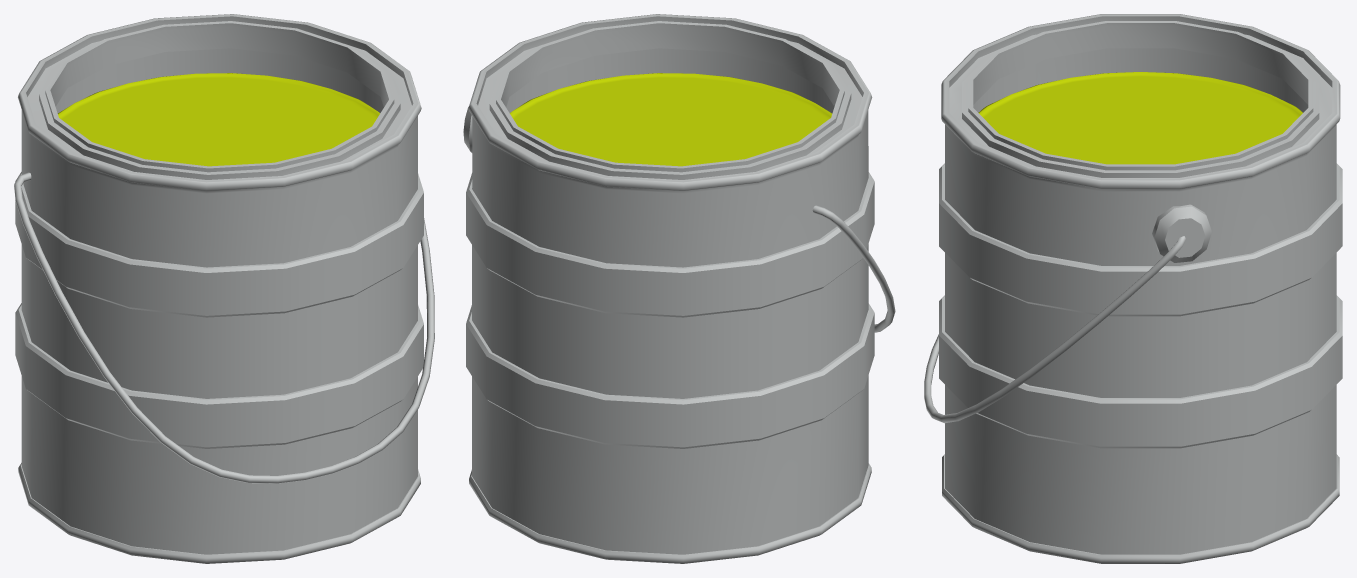
The model's file is paint_bucket4.fbx.
3 renders of one model, left to right at view 1: azimuth 30°, elevation 25°; view 2: azimuth 150°, elevation 25°; view 3: azimuth 270°, elevation 25°, orthographic.
Parts seen in each view (by area): view 1: Paint; view 2: Paint; view 3: Paint.
Boxes of the visible parts, left/top/right/bottom form: Paint: left=14, top=14, right=434, bottom=563; Paint: left=463, top=14, right=895, bottom=563; Paint: left=924, top=14, right=1342, bottom=563.
Size of the model in its own units: 0.3026 by 0.2948 by 0.2885.
2 materials, 1 textured.
